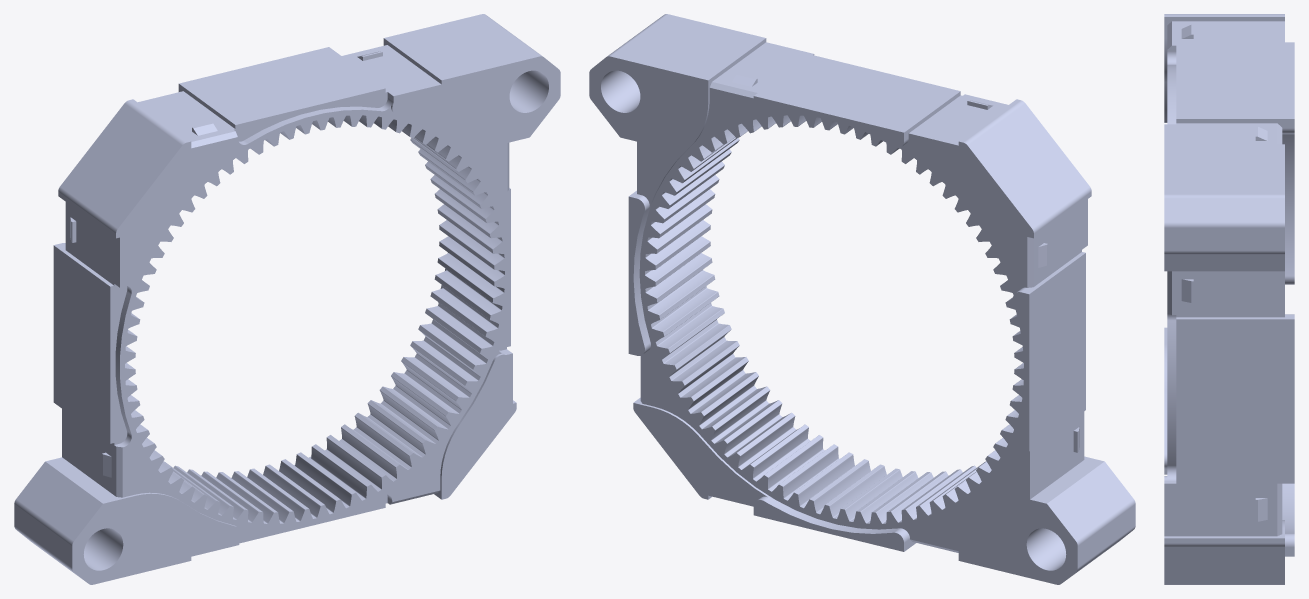
The model's file is REV_21_2100_P06_1_solid1.obj.
3 views of the same model, side by side, from view 1: azimuth 30°, elevation 25°; view 2: azimuth 150°, elevation 25°; view 3: azimuth 270°, elevation 25° (orthographic). The views are drawn at different scales.
Visible parts, largest first — view 1: mesh23870, mesh23713, mesh23795, mesh23735, mesh23805, mesh23820, mesh23789, mesh23761, mesh23817, mesh23701, mesh23822, mesh23828 (+20 smaller); view 2: mesh23871, mesh23713, mesh23792, mesh23697, mesh23805, mesh23820, mesh23789, mesh23818, mesh23756, mesh23701, mesh23828, mesh23822 (+21 smaller); view 3: mesh23772, mesh23805, mesh23789, mesh23840, mesh23858, mesh23755, mesh23787, mesh23785, mesh23852, mesh23846, mesh23782, mesh23767 (+20 smaller).
Boxes of the visible parts, <box> form: mesh23870: <box>120,105,510,531</box>; mesh23713: <box>53,245,110,443</box>; mesh23795: <box>392,56,560,147</box>; mesh23735: <box>72,493,240,584</box>; mesh23805: <box>179,47,385,124</box>; mesh23820: <box>60,103,182,228</box>; mesh23789: <box>384,14,539,80</box>; mesh23761: <box>441,353,516,499</box>; mesh23817: <box>116,141,191,287</box>; mesh23701: <box>16,461,102,540</box>; mesh23822: <box>65,202,119,287</box>; mesh23828: <box>62,409,116,496</box>; mesh23871: <box>639,88,1027,550</box>; mesh23713: <box>1029,253,1085,451</box>; mesh23792: <box>589,56,708,206</box>; mesh23697: <box>958,443,1077,584</box>; mesh23805: <box>754,54,960,132</box>; mesh23820: <box>967,103,1089,228</box>; mesh23789: <box>610,14,765,80</box>; mesh23818: <box>902,133,1033,238</box>; mesh23756: <box>633,403,766,506</box>; mesh23701: <box>1047,461,1133,540</box>; mesh23828: <box>1030,411,1084,499</box>; mesh23822: <box>1033,199,1087,286</box>; mesh23772: <box>1176,319,1294,483</box>; mesh23805: <box>1176,42,1294,118</box>; mesh23789: <box>1164,144,1284,194</box>; mesh23840: <box>1164,483,1277,536</box>; mesh23858: <box>1172,271,1284,317</box>; mesh23755: <box>1164,547,1284,584</box>; mesh23787: <box>1164,198,1284,221</box>; mesh23785: <box>1164,228,1284,250</box>; mesh23852: <box>1172,21,1284,45</box>; mesh23846: <box>1164,123,1277,144</box>; mesh23782: <box>1164,254,1284,271</box>; mesh23767: <box>1167,320,1176,398</box>.
Bounding box in the file's own units: 0.0619 × 0.0508 × 0.0137.
